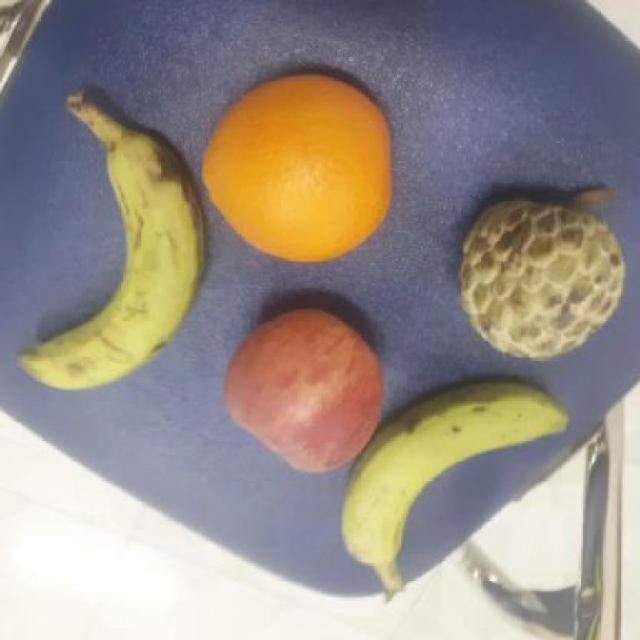apple: (215, 306, 387, 480)
banana: (10, 128, 213, 397), (339, 378, 575, 572)
oren: (198, 66, 398, 269)
sugar apple: (449, 179, 631, 365)
